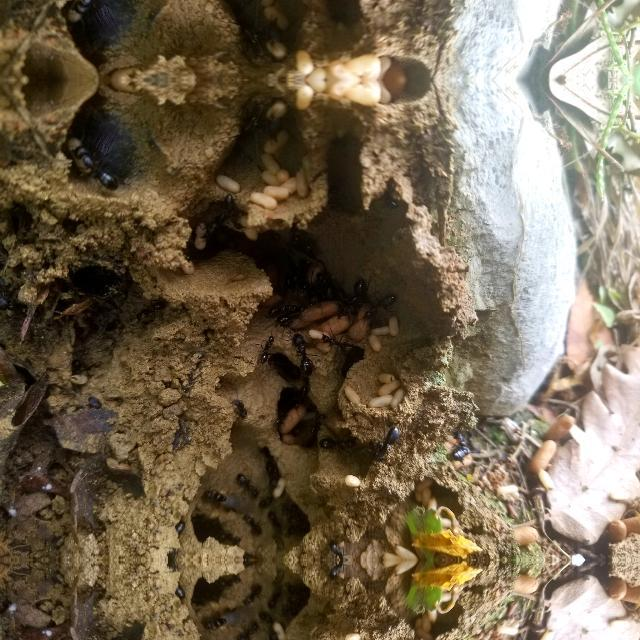Camponotus: (64, 140, 122, 192), (365, 423, 407, 465), (286, 330, 320, 372), (361, 291, 403, 323), (444, 426, 478, 464), (318, 330, 364, 358), (277, 256, 311, 292), (62, 0, 121, 20), (340, 276, 372, 312), (370, 175, 400, 212), (216, 189, 247, 223), (232, 469, 264, 499), (132, 298, 168, 324), (270, 300, 306, 326), (318, 433, 360, 455), (312, 270, 340, 302), (254, 332, 280, 364), (200, 214, 226, 246), (200, 487, 233, 509), (200, 611, 233, 633), (292, 378, 312, 408), (232, 620, 262, 640), (240, 512, 264, 536), (240, 584, 264, 608), (328, 540, 354, 560), (328, 560, 354, 580), (230, 396, 252, 419), (266, 410, 290, 430), (310, 411, 330, 433)
